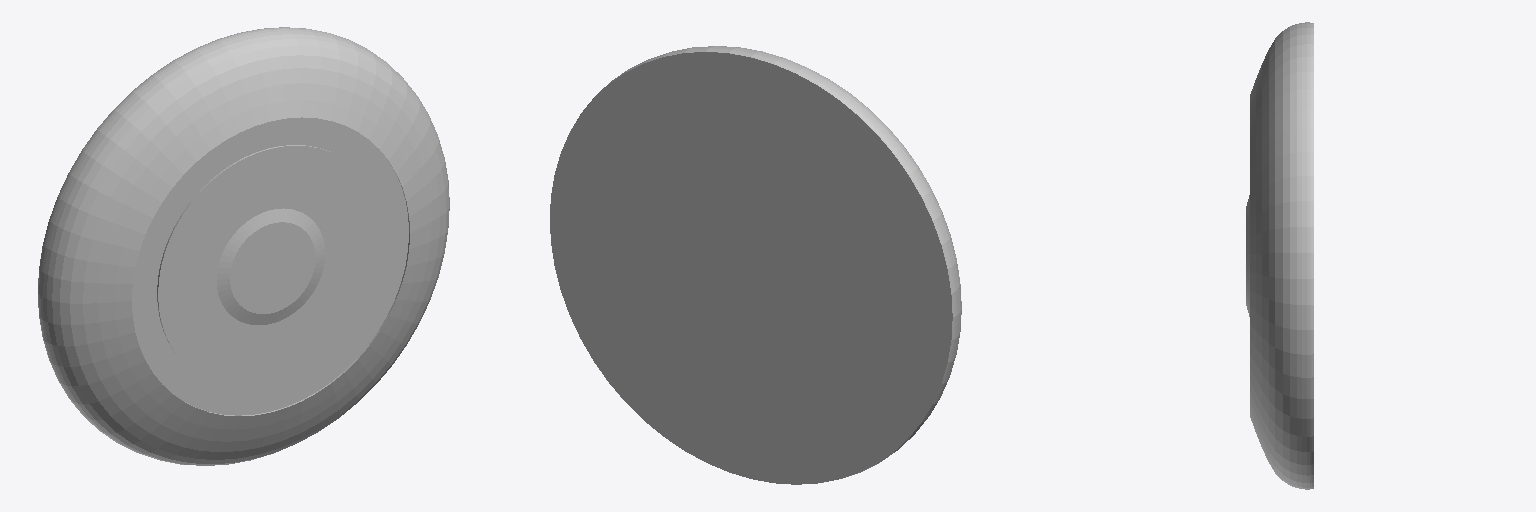
Rendered from frisbee.obj.
3 renders of one model, left to right at view 1: azimuth 30°, elevation 25°; view 2: azimuth 150°, elevation 25°; view 3: azimuth 270°, elevation 25°, orthographic.
Bounding box in the file's own units: 23.2 × 23.19 × 3.33.